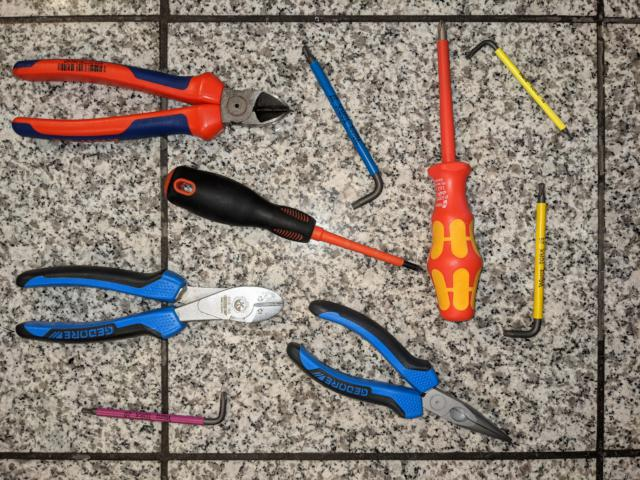Inbusschlüssel: (298, 42, 389, 213), (463, 36, 576, 142), (500, 180, 549, 344), (79, 387, 231, 433)
Schraubendreher: (160, 163, 427, 280), (423, 17, 486, 326)
Seitenschneider: (9, 54, 297, 148), (12, 261, 287, 352)
Zange: (283, 298, 517, 448)
